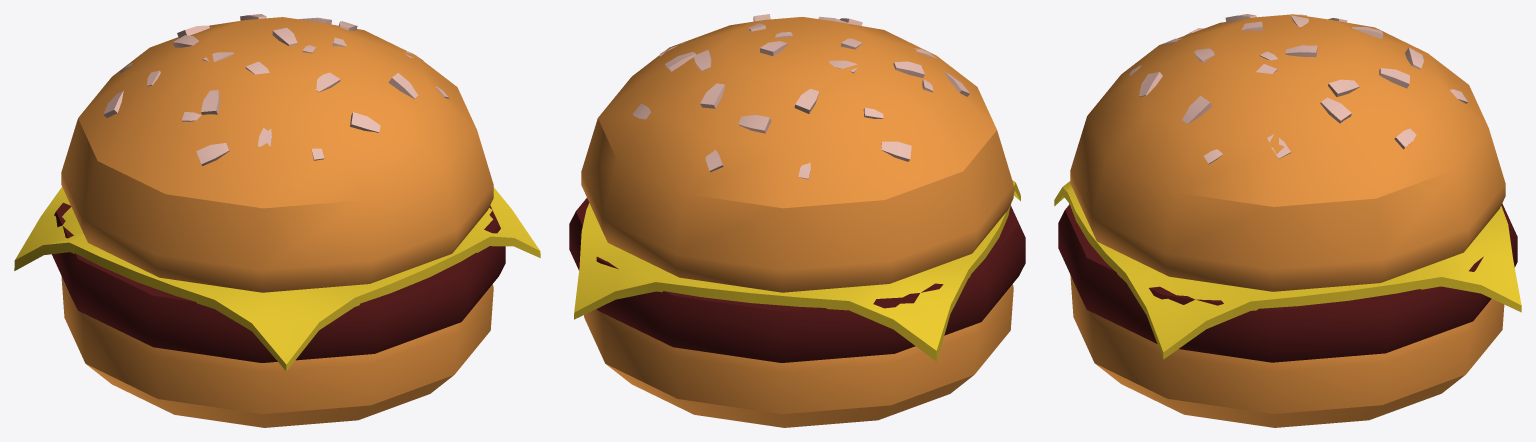
The model's file is Burger.glb.
3 renders of one model, left to right at view 1: azimuth 30°, elevation 25°; view 2: azimuth 150°, elevation 25°; view 3: azimuth 270°, elevation 25°, orthographic.
Parts seen in each view (by area): view 1: Circle.022; view 2: Circle.022; view 3: Circle.022.
Boxes of the visible parts, x1,y1,x2,y2 form: Circle.022: (14, 14, 540, 427); Circle.022: (569, 14, 1025, 427); Circle.022: (1054, 14, 1521, 427).
Size of the model in its own units: 3.16 by 2.3 by 3.16.
